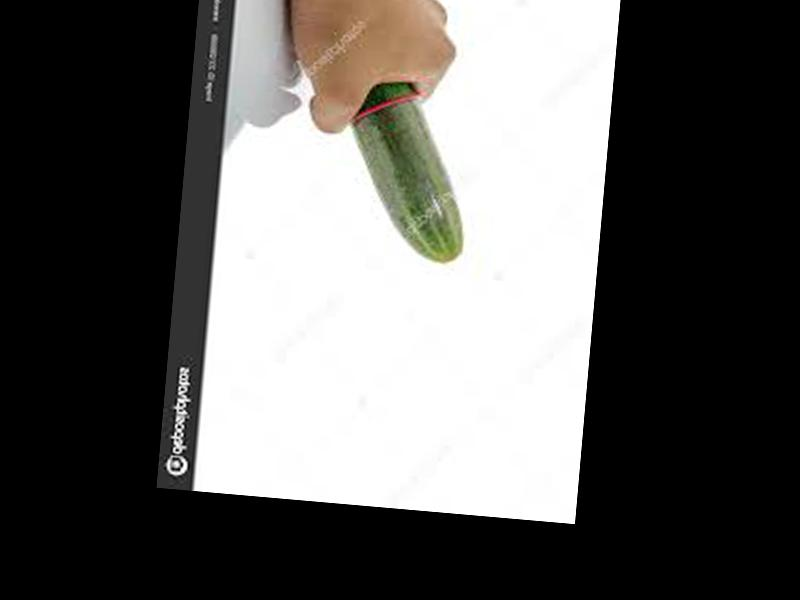Cucumber: (341, 77, 476, 264)
